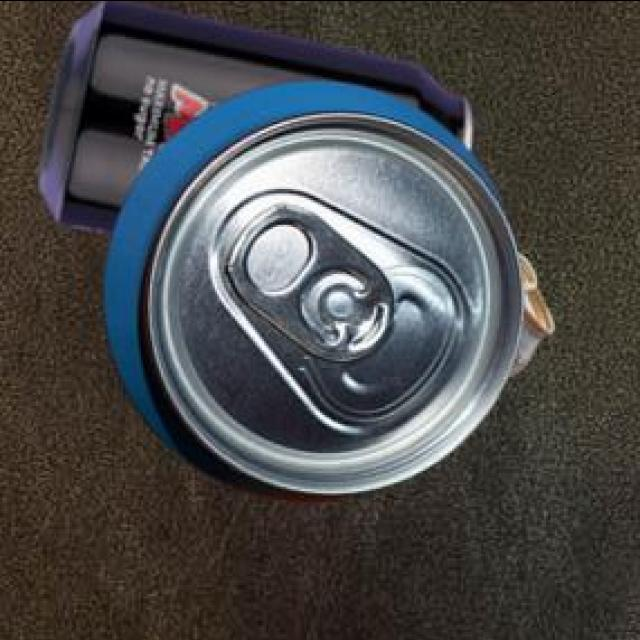logam: (106, 77, 527, 498), (44, 0, 476, 229), (511, 252, 556, 371)
